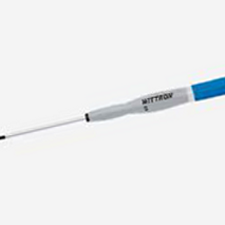Screwdriver: (1, 74, 225, 143)
